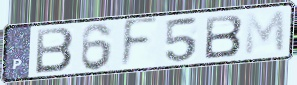5: (163, 14, 199, 64)
6: (79, 22, 114, 73)
B: (33, 26, 76, 76), (204, 13, 245, 61)
F: (119, 15, 161, 72)
M: (244, 8, 287, 58)
